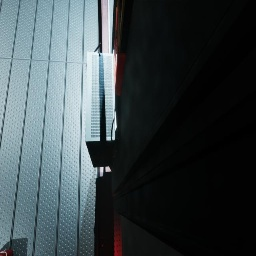EmergencyPhone ,: (117, 0, 133, 53)
FireAlarm ,: (114, 7, 126, 96)
FirstAidBox ,: (0, 249, 13, 256)
